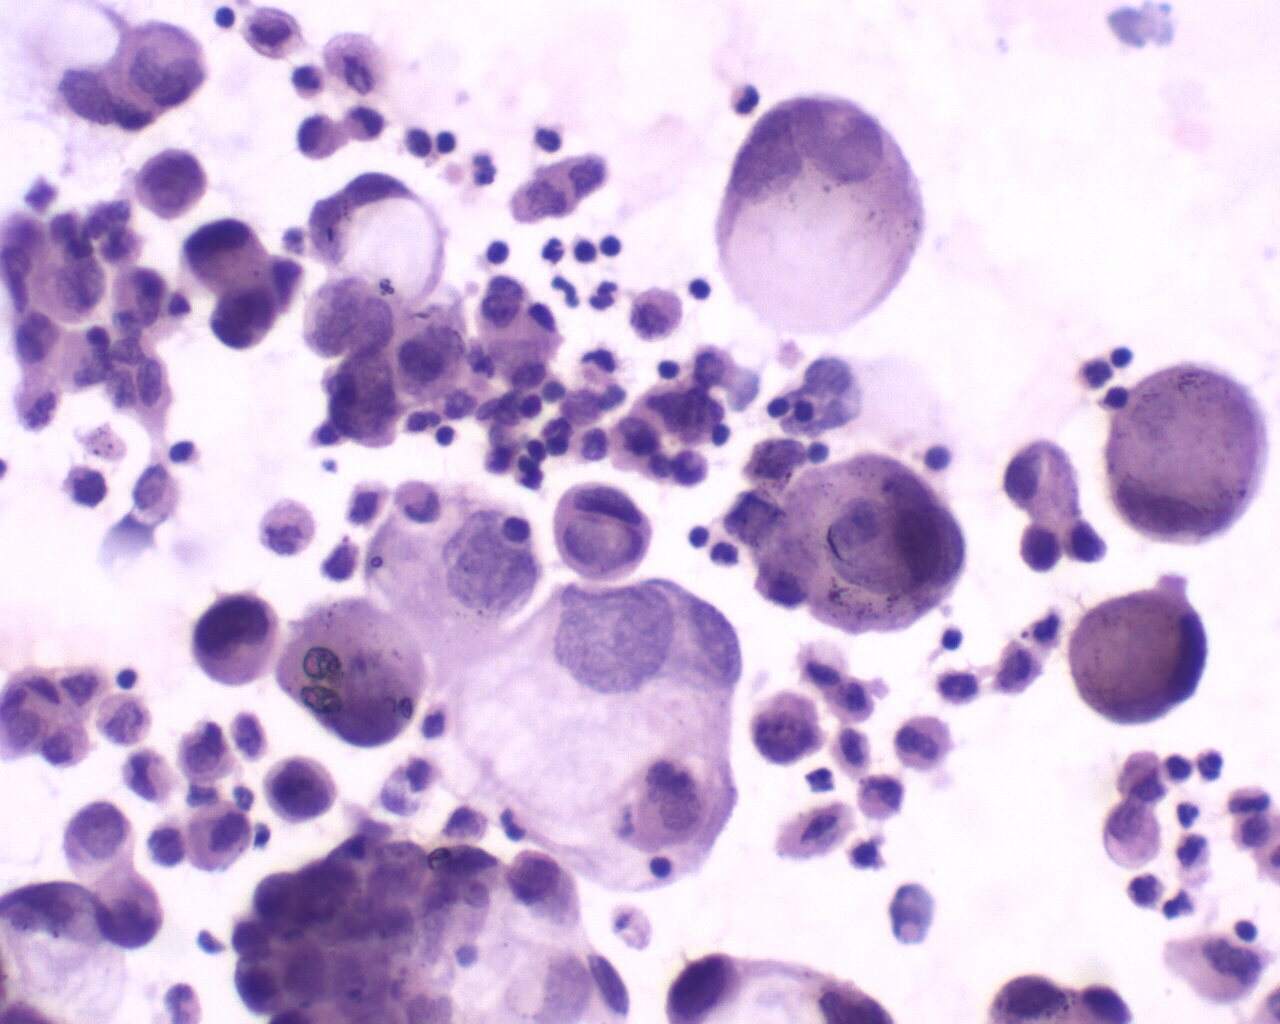ab: (716, 92, 928, 342), (1101, 352, 1269, 544), (189, 587, 288, 693), (127, 142, 210, 225), (745, 684, 824, 769), (259, 753, 344, 827)
lymph: (478, 231, 517, 271), (204, 1, 240, 33), (938, 625, 975, 652), (595, 233, 624, 260), (688, 274, 715, 302)
meso: (182, 802, 252, 875), (289, 113, 351, 160)
neutro: (1196, 745, 1230, 786), (538, 232, 567, 267)
